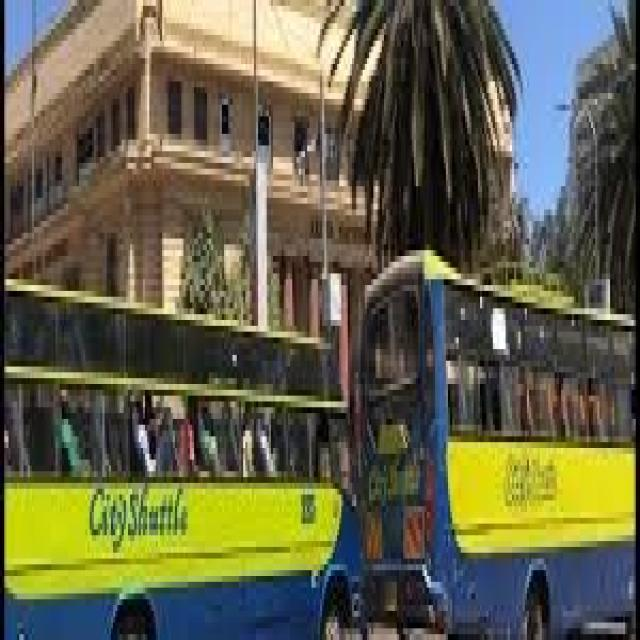bus: (2, 250, 365, 640), (363, 250, 638, 640)
